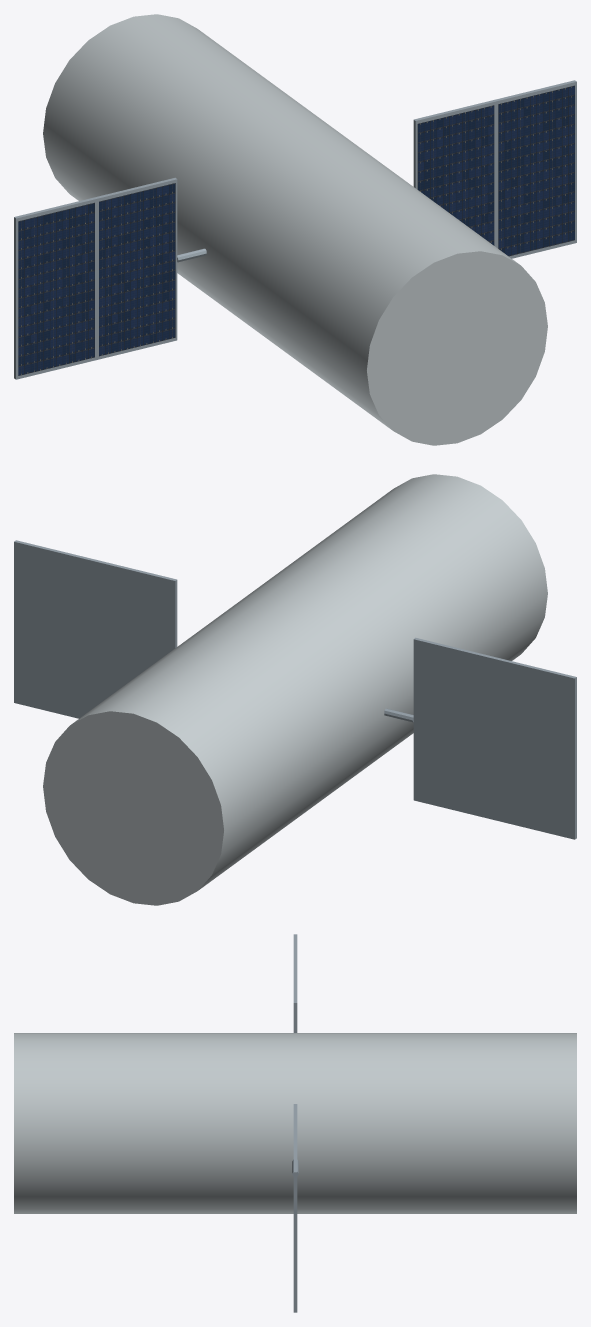
File: ref-77ks-10146.glb
3 views of the same model, one above another, from view 1: azimuth 30°, elevation 25°; view 2: azimuth 150°, elevation 25°; view 3: azimuth 270°, elevation 25° (orthographic). The views are drawn at different scales.
Visible parts, largest first — view 1: Spacecraft body, Photovoltaic laminates (×4), Array frame (×4); view 2: Spacecraft body, Array frame (×4); view 3: Spacecraft body, Array frame.
Part boxes in pixels (<box>): Spacecraft body: <box>43,14,547,445</box>; Photovoltaic laminates (×4): <box>18,85,574,375</box>; Array frame (×4): <box>14,80,576,379</box>; Spacecraft body: <box>43,474,547,905</box>; Array frame (×4): <box>14,540,576,839</box>; Spacecraft body: <box>14,1033,576,1213</box>; Array frame: <box>293,1138,297,1312</box>.
Size of the model in its own units: 13 by 4.2 by 13.
3 materials, 1 textured.
